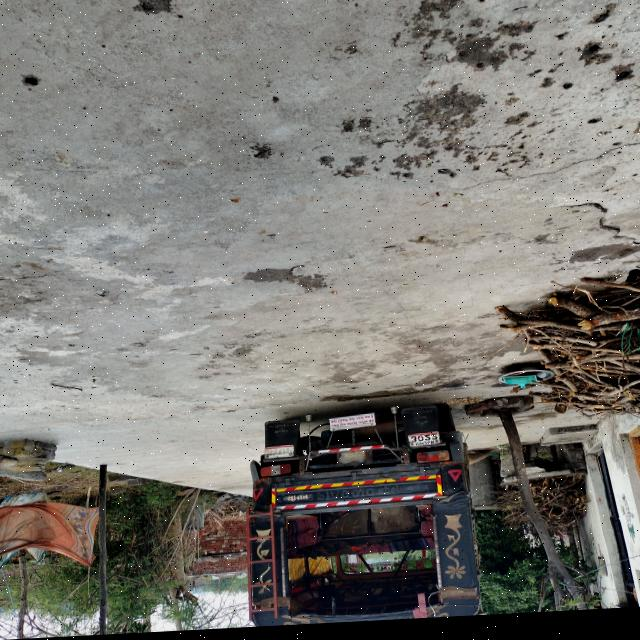plate: (406, 436, 441, 453)
